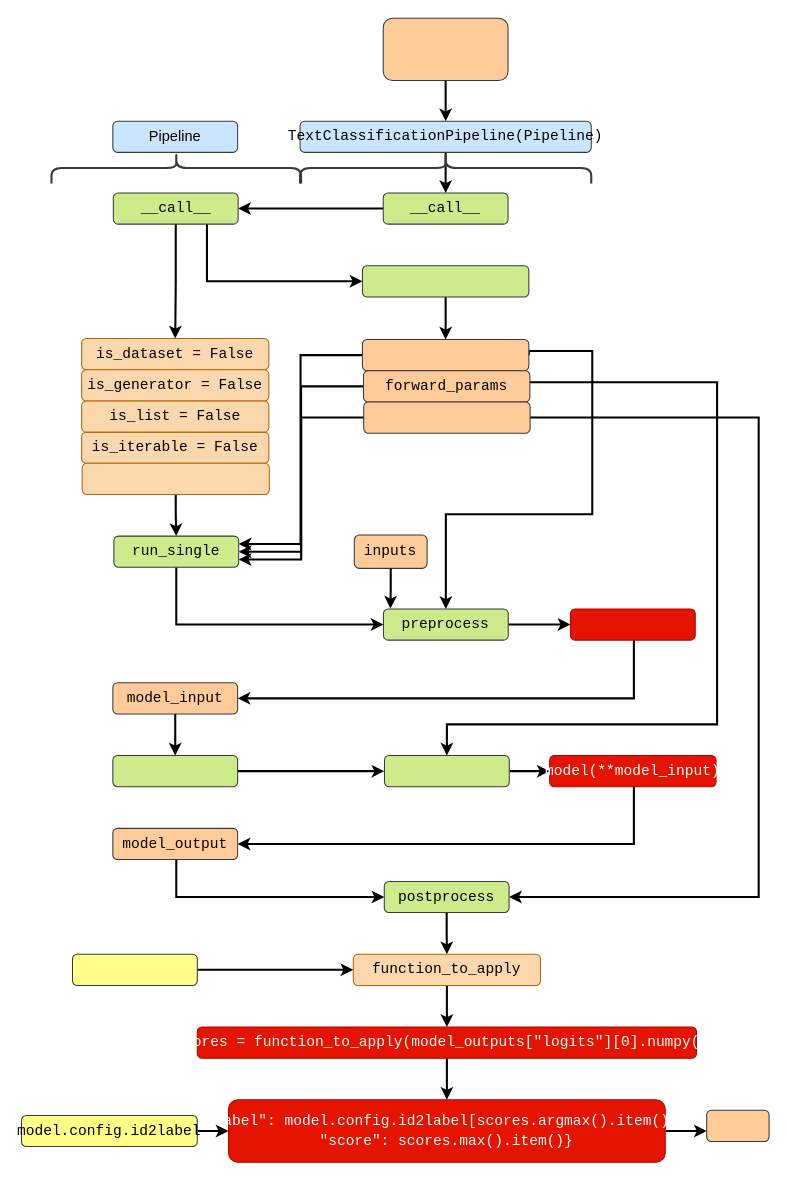
The diagram is 787 pixels wide and 1180 high, and some of its shapes have lost their labels. Each missing label, with the box of its shape:
_forward: (383, 755, 509, 787)
_sanitize_parameters: (361, 265, 529, 297)
can_use_iterator = False: (81, 462, 269, 495)
forward: (112, 755, 238, 787)
inputs: "我觉得不太行": (382, 17, 508, 81)
model.config: (71, 953, 197, 985)
postprocess_params: (363, 401, 530, 433)
preprocess_params: (361, 339, 529, 371)
result: (706, 1109, 769, 1141)
tokenizer: (569, 608, 695, 640)
